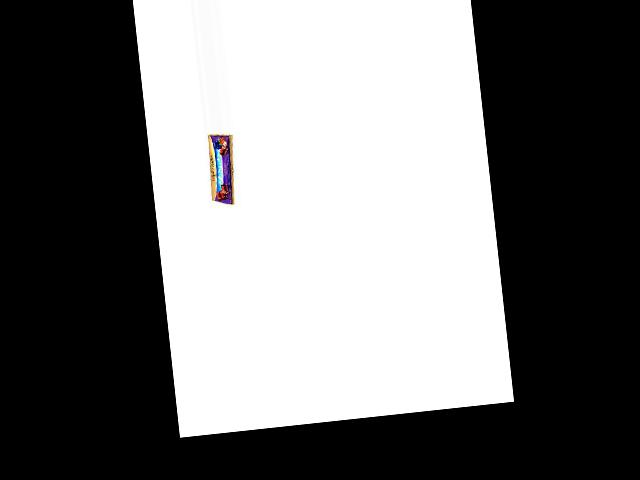chocolate: (207, 132, 240, 209)
